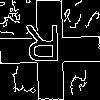R: (25, 25, 62, 71)
